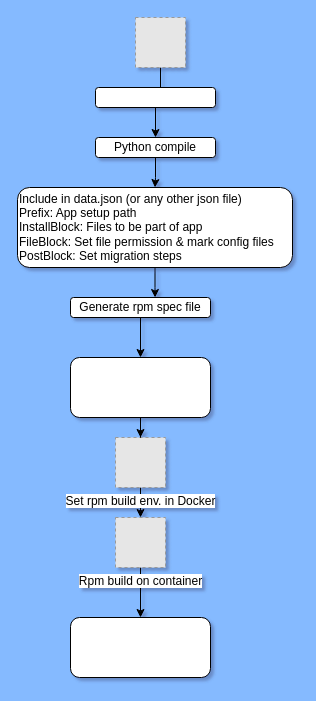
This 316x701 diagram has some shape labels left out. Grey dashed boxes stand in for pictures. Here are the shapes that lost their labels. From the top down, the centre of each, then its label:
point (155, 97): Pull code
point (140, 387): Share spec, pyc & dependencies with docker container as volumes
point (140, 647): Share rpms as Jenkins artifacts
